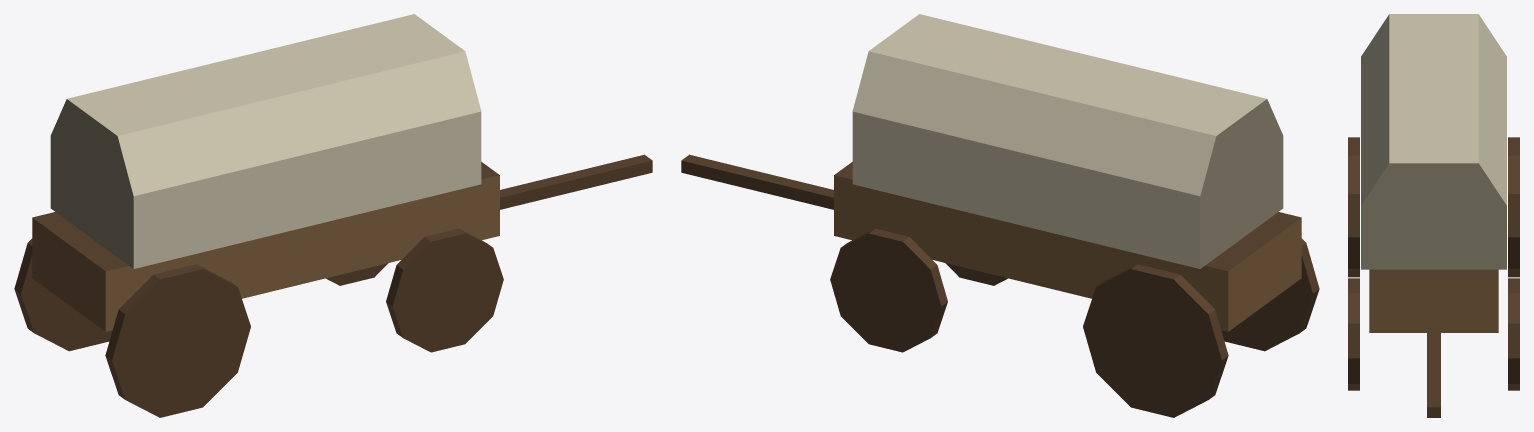
Rendered from wagon_covered.glb.
3 views of the same model, side by side, from view 1: azimuth 30°, elevation 25°; view 2: azimuth 150°, elevation 25°; view 3: azimuth 270°, elevation 25° (orthographic). The views are drawn at different scales.
Parts seen in each view (by area): view 1: wagon_covered; view 2: wagon_covered; view 3: wagon_covered.
Part boxes in pixels (x1,y1,x2,y2): wagon_covered: (14,14,652,417); wagon_covered: (681,14,1319,417); wagon_covered: (1348,14,1519,417).
Bounding box in the file's own units: 5.05 × 2.23 × 1.46.
